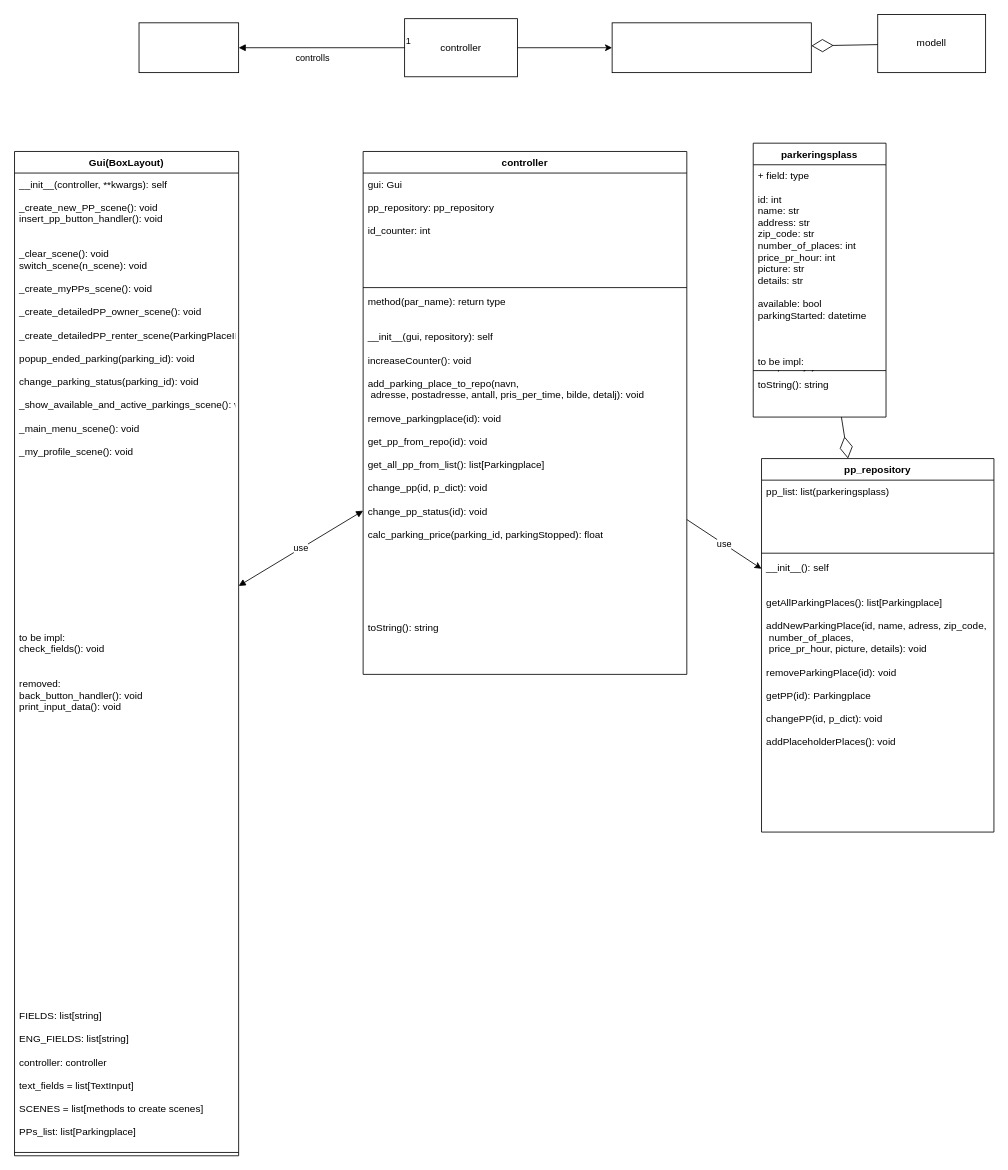
The diagram is 1008 pixels wide and 1170 high, and some of its shapes have lost their labels. The centre of each missing label's shape, as x and y in pixels:
repository: the point at 711,47
view: the point at 188,47
